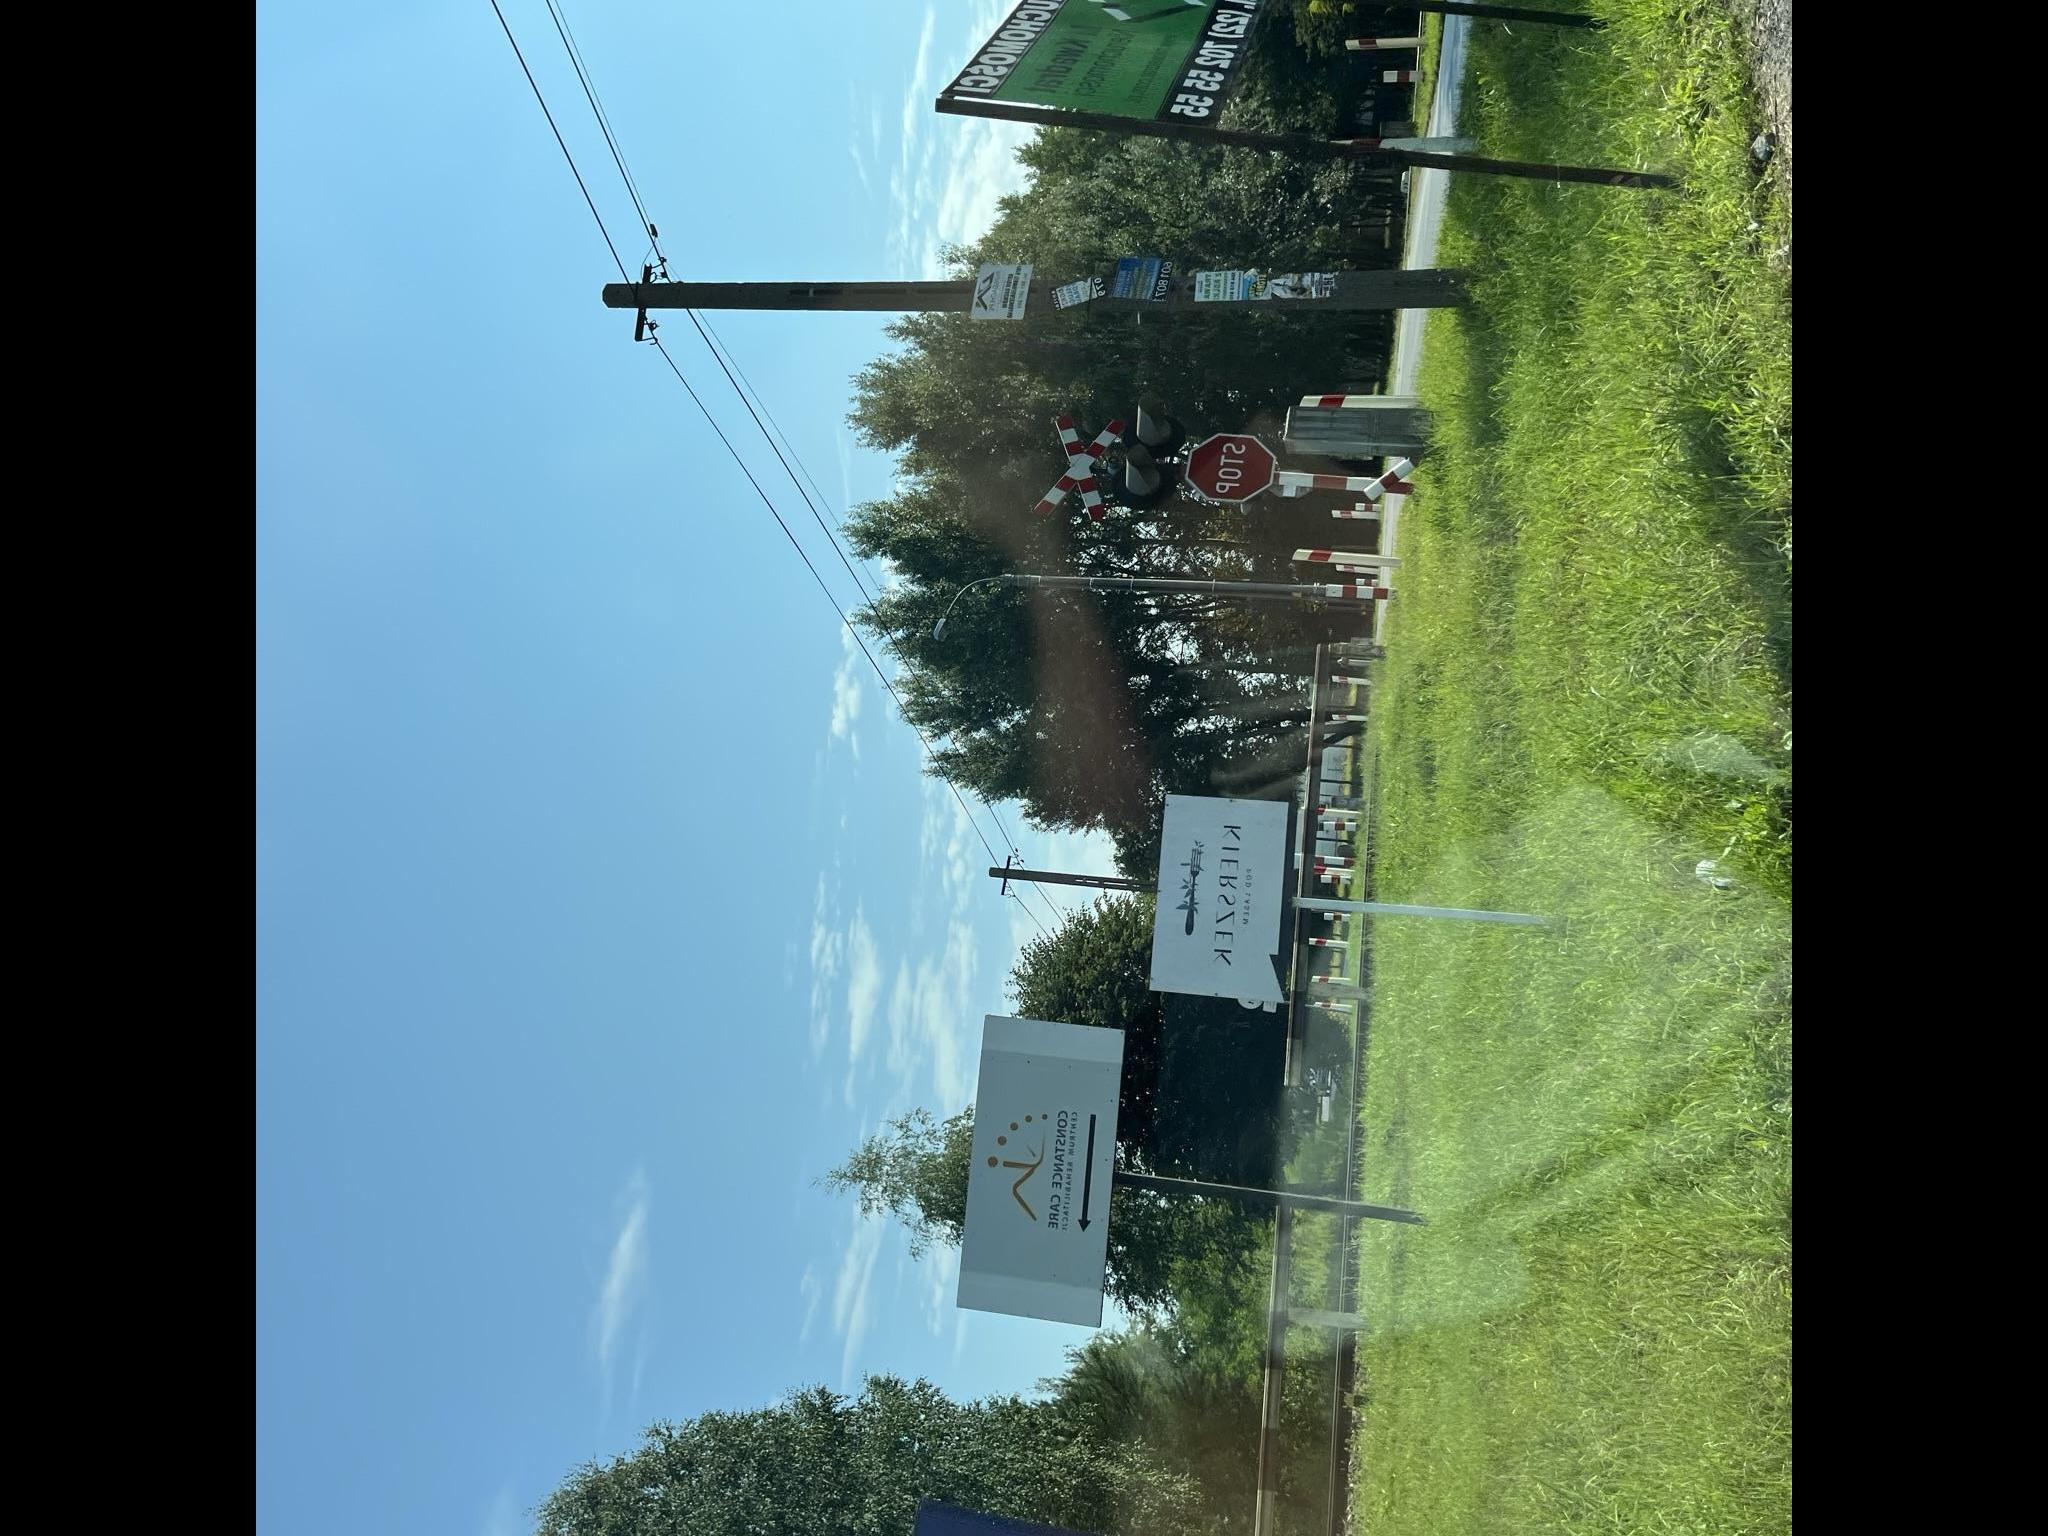prohibitory: (1187, 432, 1277, 503)
